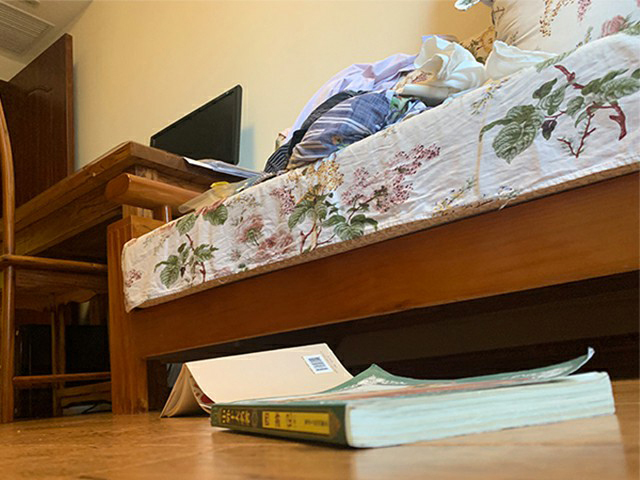book: (207, 354, 617, 449), (157, 340, 345, 411)
sofa: (103, 1, 640, 414)
stool: (1, 105, 110, 424)
